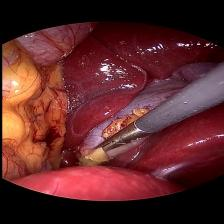Grasper: (88, 120, 148, 156)
